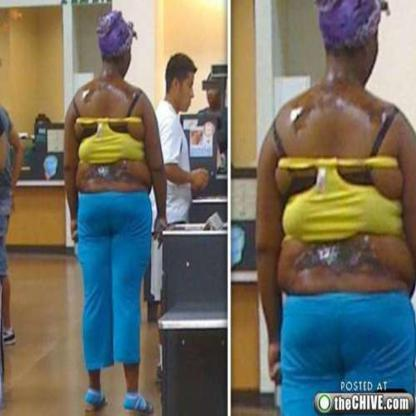face: (179, 71, 195, 112), (207, 77, 221, 107), (38, 123, 47, 136), (195, 132, 201, 143), (207, 127, 213, 137)
